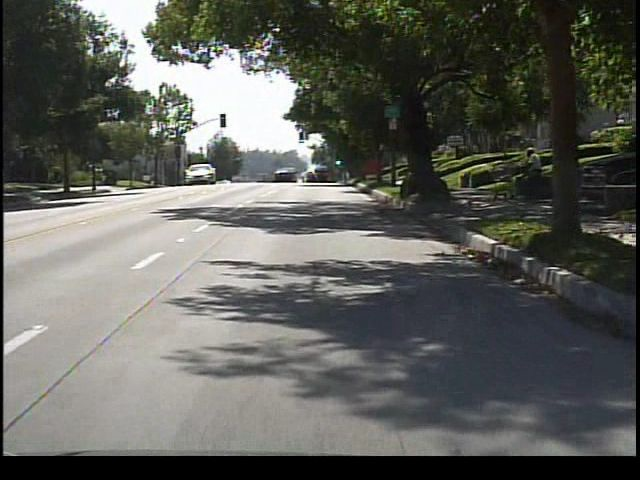person: (519, 144, 549, 204)
